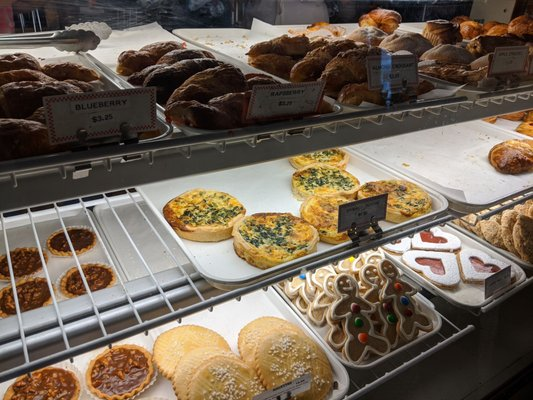salad: (233, 213, 320, 270), (162, 189, 247, 243), (151, 324, 232, 380), (85, 344, 155, 400), (115, 40, 186, 78), (2, 366, 81, 400), (57, 262, 118, 298), (45, 227, 98, 259)
